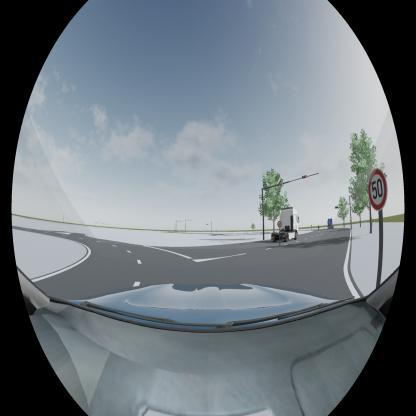Red Light: (302, 174, 308, 179)
